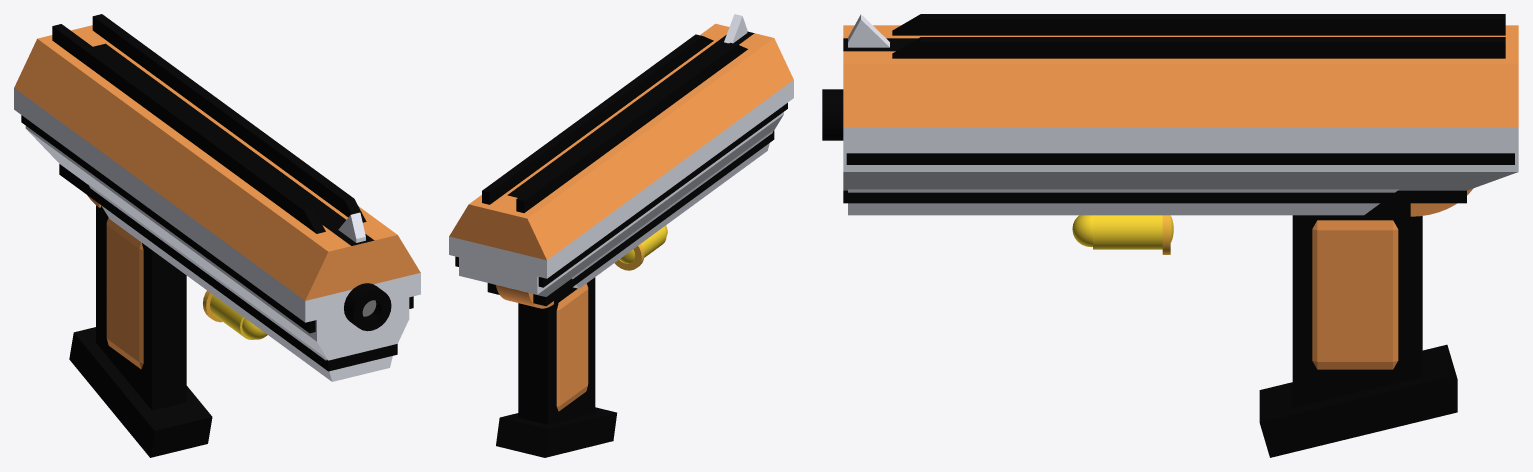
Rendered from Gun.fbx.
The picture shows the model from 3 angles, left to right: view 1: azimuth 30°, elevation 25°; view 2: azimuth 150°, elevation 25°; view 3: azimuth 270°, elevation 25°; orthographic projection. The views are drawn at different scales.
Visible parts, largest first — view 1: largeBlaster_center, block (×3), detailRail_front, largeBlaster_back, block_bevel, mediumBlaster_back (×3), attachment_barrelThin, pipe_large, detailTargetSightFront; view 2: largeBlaster_center, block (×3), largeBlaster_back, detailRail_front, block_bevel, mediumBlaster_back (×5), pipe_large, arc_quarter, detailTargetSightFront; view 3: largeBlaster_center, block (×3), detailRail_front, block_bevel, mediumBlaster_back (×6), largeBlaster_back, pipe_large, attachment_barrelThin, detailTargetSightFront.
Part boxes in pixels (<box>): largeBlaster_center: <box>42,47,420,371</box>; block (×3): <box>21,115,413,457</box>; detailRail_front: <box>52,14,366,233</box>; largeBlaster_back: <box>14,25,129,189</box>; block_bevel: <box>106,217,143,369</box>; mediumBlaster_back (×3): <box>132,216,392,381</box>; attachment_barrelThin: <box>344,283,391,331</box>; pipe_large: <box>203,290,253,339</box>; detailTargetSightFront: <box>338,212,365,242</box>; largeBlaster_center: <box>511,23,793,300</box>; block (×3): <box>455,103,787,457</box>; largeBlaster_back: <box>449,181,584,306</box>; detailRail_front: <box>482,34,747,212</box>; block_bevel: <box>556,283,588,411</box>; mediumBlaster_back (×5): <box>578,130,773,274</box>; pipe_large: <box>615,227,666,270</box>; arc_quarter: <box>496,285,553,308</box>; detailTargetSightFront: <box>724,14,747,43</box>; largeBlaster_center: <box>843,25,1452,203</box>; block (×3): <box>846,153,1514,457</box>; detailRail_front: <box>892,14,1505,58</box>; block_bevel: <box>1312,220,1398,369</box>; mediumBlaster_back (×6): <box>848,189,1398,215</box>; largeBlaster_back: <box>1415,25,1518,203</box>; pipe_large: <box>1093,215,1170,254</box>; attachment_barrelThin: <box>822,89,843,140</box>; detailTargetSightFront: <box>848,14,889,47</box>.
Size of the model in its own units: 3 by 9.09 by 13.5.
